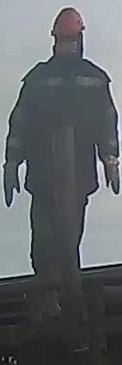gloves: (97, 147, 121, 196), (1, 156, 22, 211)
helmet: (47, 5, 86, 41)
vest: (9, 58, 118, 197)
